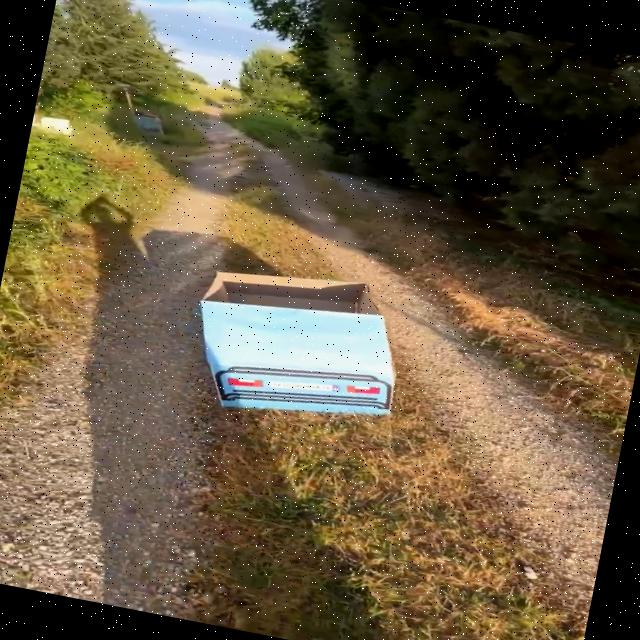blue_car: (153, 233, 462, 455)
